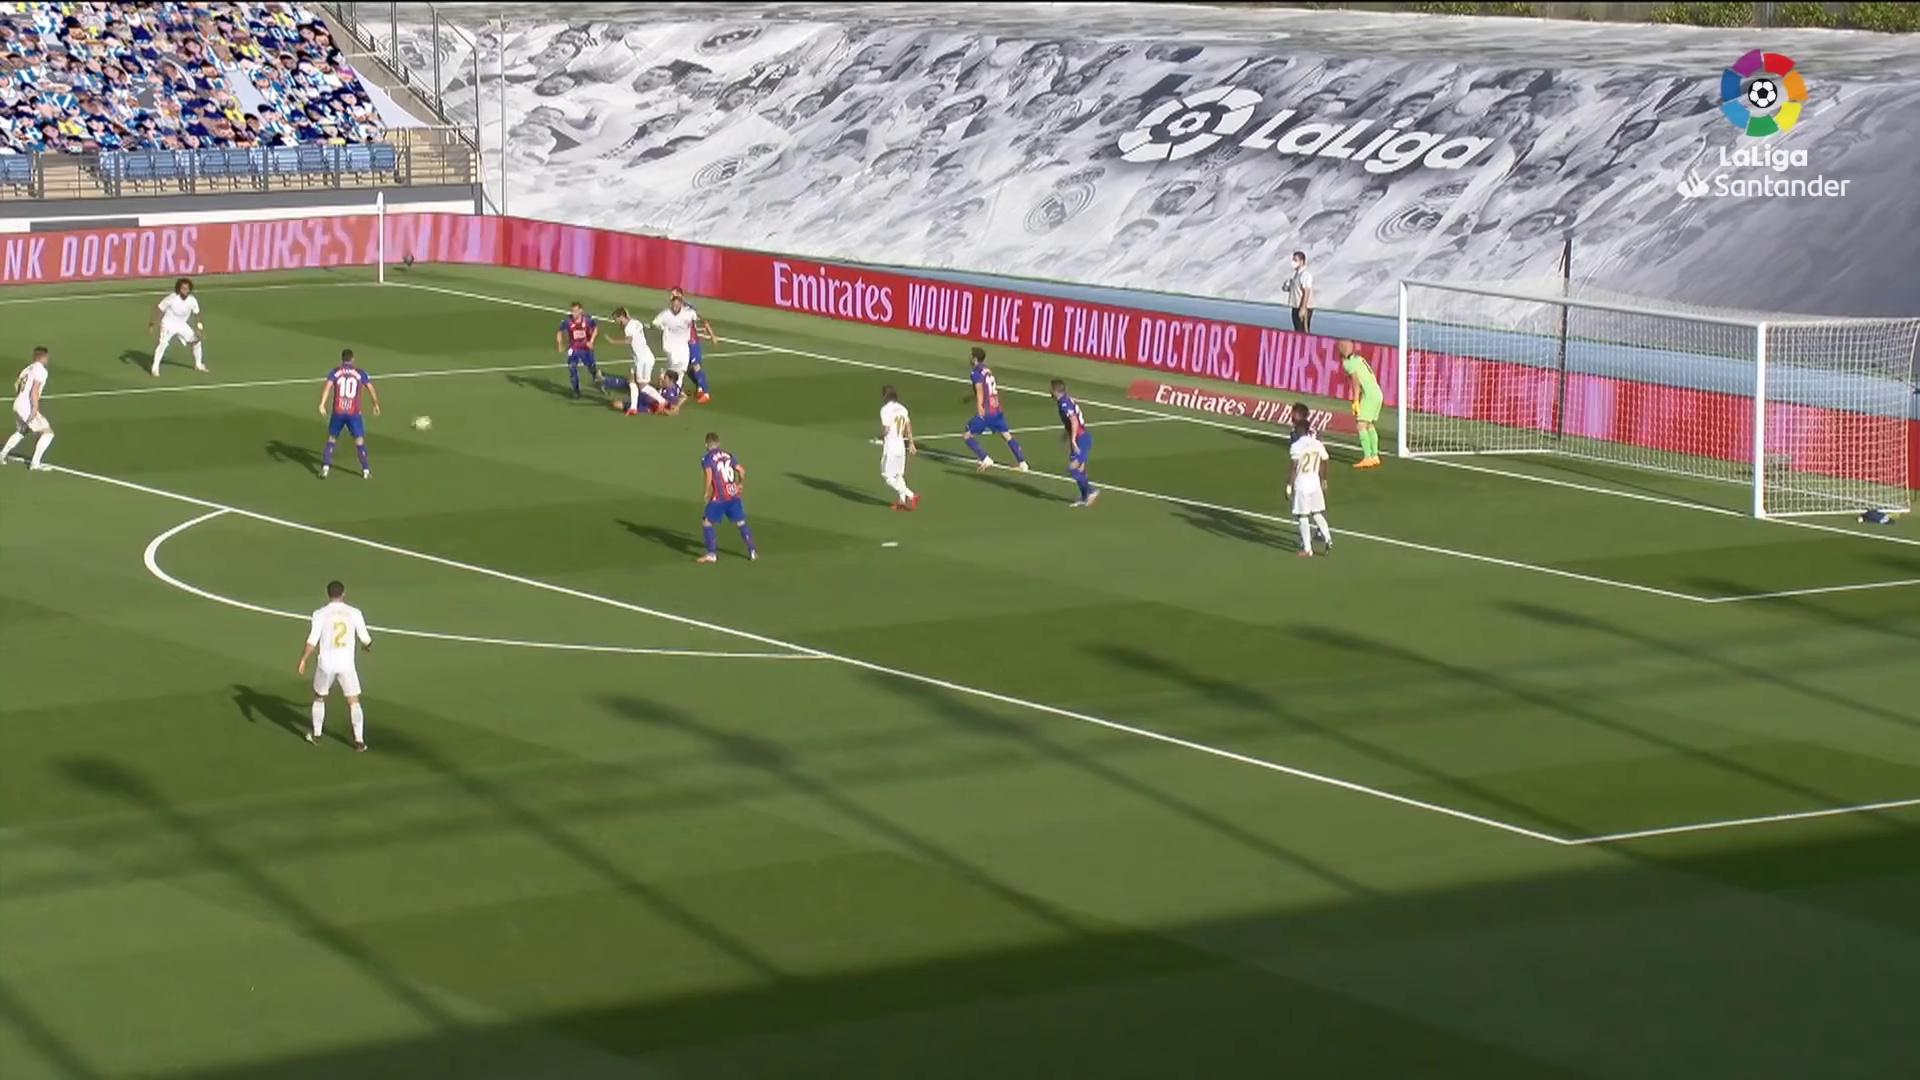ball: (413, 413, 435, 433)
goalkeeper: (1332, 337, 1391, 474)
player: (295, 578, 375, 756), (692, 430, 763, 566), (315, 344, 384, 483), (964, 344, 1029, 477), (0, 342, 64, 475), (1281, 402, 1334, 553), (1282, 415, 1335, 561), (606, 302, 670, 421), (1044, 374, 1100, 508), (870, 379, 923, 514), (664, 284, 720, 407), (146, 277, 210, 381), (553, 300, 613, 406), (648, 295, 700, 401), (590, 366, 686, 415)
